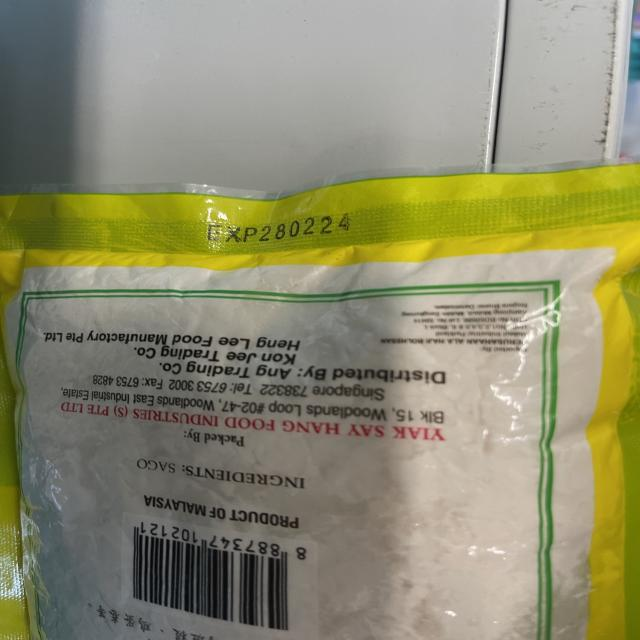object_name: (7, 189, 639, 640)
